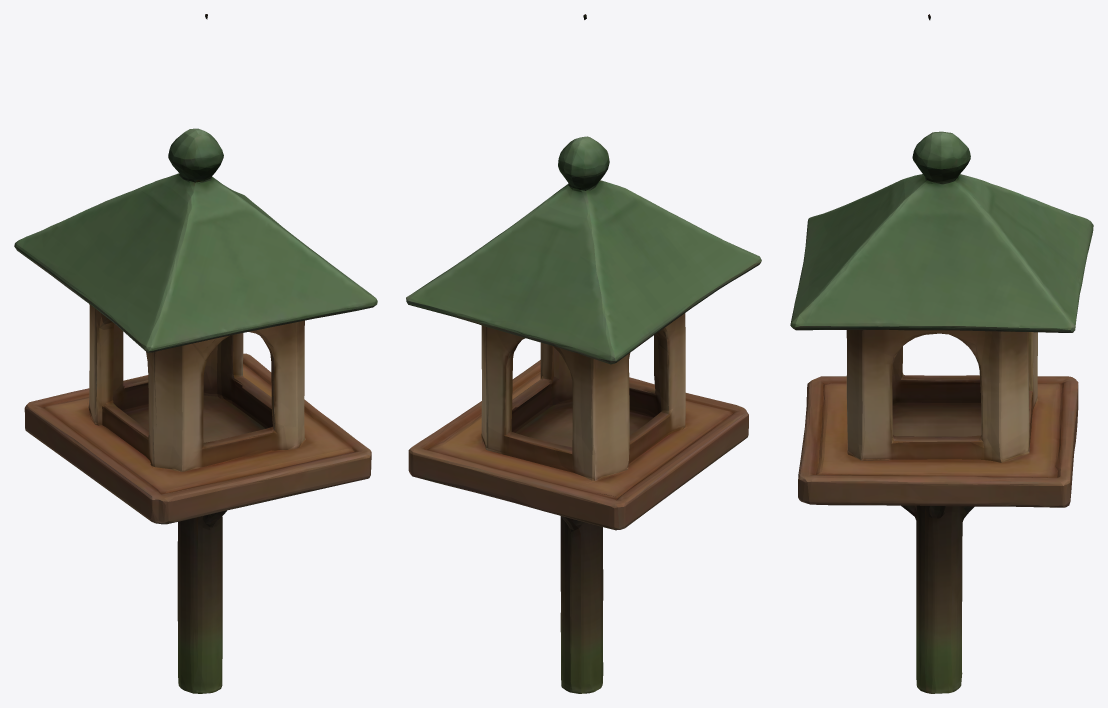
The model's file is pathway light.glb.
3 views of the same model, side by side, from view 1: azimuth 30°, elevation 25°; view 2: azimuth 150°, elevation 25°; view 3: azimuth 270°, elevation 25° (orthographic).
Visible parts, largest first — view 1: world; view 2: world; view 3: world.
Boxes of the visible parts, x1=… form: world: x1=14, y1=14, x2=377, y2=693; world: x1=406, y1=14, x2=761, y2=693; world: x1=790, y1=14, x2=1093, y2=693.
Size of the model in its own units: 0.3593 by 0.999 by 0.4088.
Materials: 1 (1 with a texture image).
